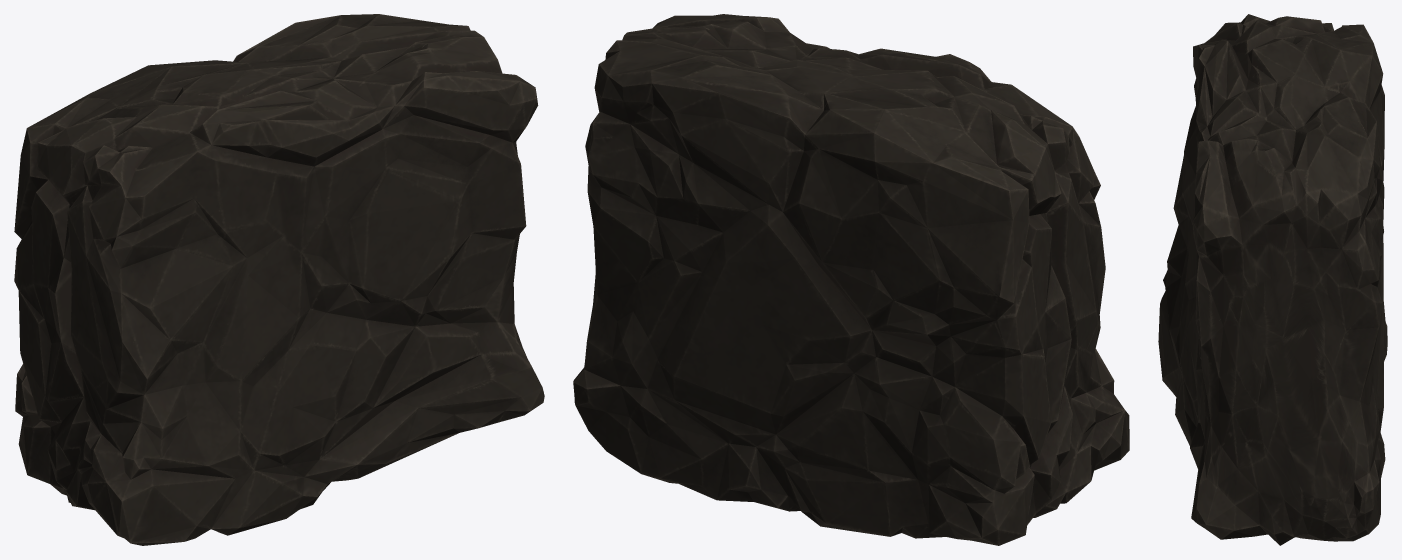
The model's file is MKCave_BRockWallFlatSide1.FBX.
The picture shows the model from 3 angles, left to right: view 1: azimuth 30°, elevation 25°; view 2: azimuth 150°, elevation 25°; view 3: azimuth 270°, elevation 25°; orthographic projection. The views are drawn at different scales.
Visible parts, largest first — view 1: MKCave_BRockWallFlatSide1_LOD0; view 2: MKCave_BRockWallFlatSide1_LOD0; view 3: MKCave_BRockWallFlatSide1_LOD0.
Part boxes in pixels (box(x1,y1,x2,y2)): MKCave_BRockWallFlatSide1_LOD0: box(14, 14, 544, 545); MKCave_BRockWallFlatSide1_LOD0: box(573, 14, 1129, 545); MKCave_BRockWallFlatSide1_LOD0: box(1158, 14, 1387, 545).
Size of the model in its own units: 989 by 452 by 862.
1 material, 1 textured.
